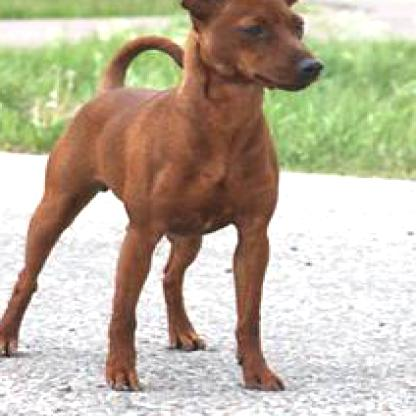dog: (1, 0, 326, 395)
